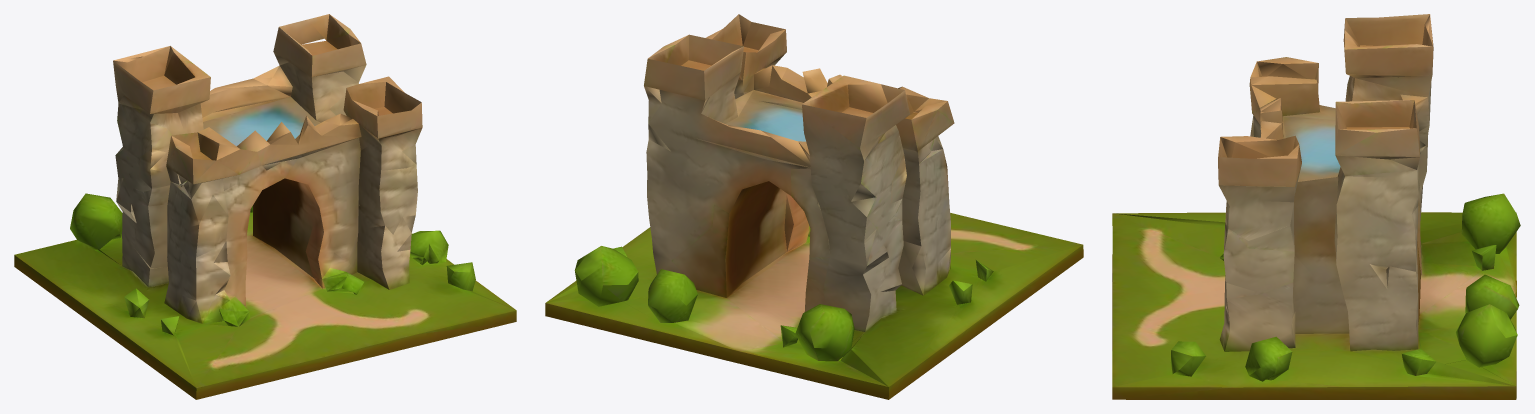
File: golfCastle.glb
3 views of the same model, side by side, from view 1: azimuth 30°, elevation 25°; view 2: azimuth 150°, elevation 25°; view 3: azimuth 270°, elevation 25° (orthographic). The views are drawn at different scales.
Visible parts, largest first — view 1: model; view 2: model; view 3: model.
Boxes of the visible parts, x1,y1,x2,y2 form: model: [14, 14, 516, 399]; model: [545, 14, 1083, 399]; model: [1112, 14, 1520, 399].
Size of the model in its own units: 1.9 by 1.25 by 1.88.
Materials: 1 (1 with a texture image).
